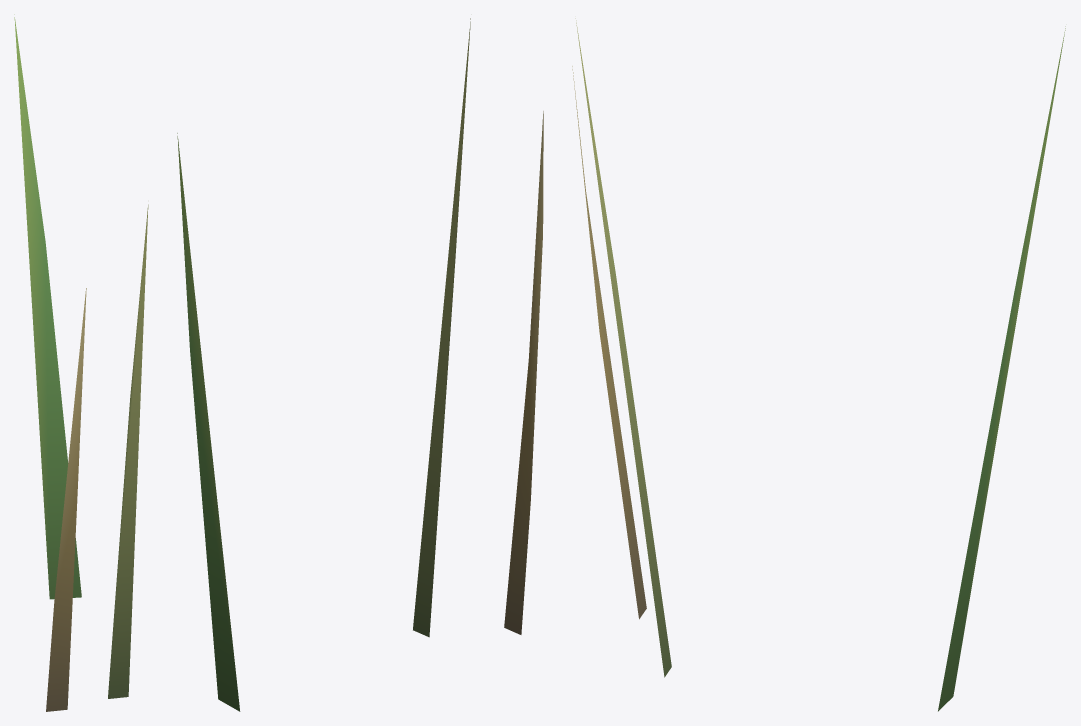
File: SparseField_LOD3.glb
3 views of the same model, side by side, from view 1: azimuth 30°, elevation 25°; view 2: azimuth 150°, elevation 25°; view 3: azimuth 270°, elevation 25° (orthographic). The views are drawn at different scales.
Visible parts, largest first — view 1: SparseField_LOD3; view 2: SparseField_LOD3; view 3: SparseField_LOD3.
Part boxes in pixels (x1,y1,x2,y2): SparseField_LOD3: (14,14,148,711); SparseField_LOD3: (177,18,543,711); SparseField_LOD3: (572,18,1065,711).
Size of the model in its own units: 0.0728 by 0.2505 by 0.1638.
